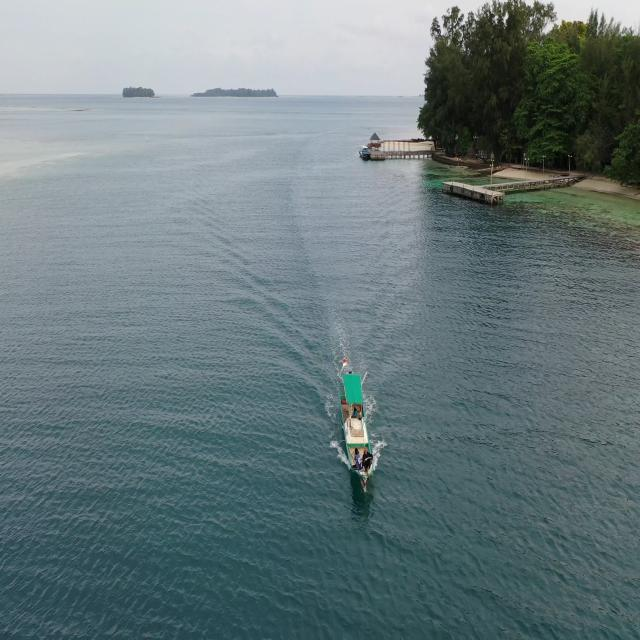ship: (333, 358, 381, 491)
